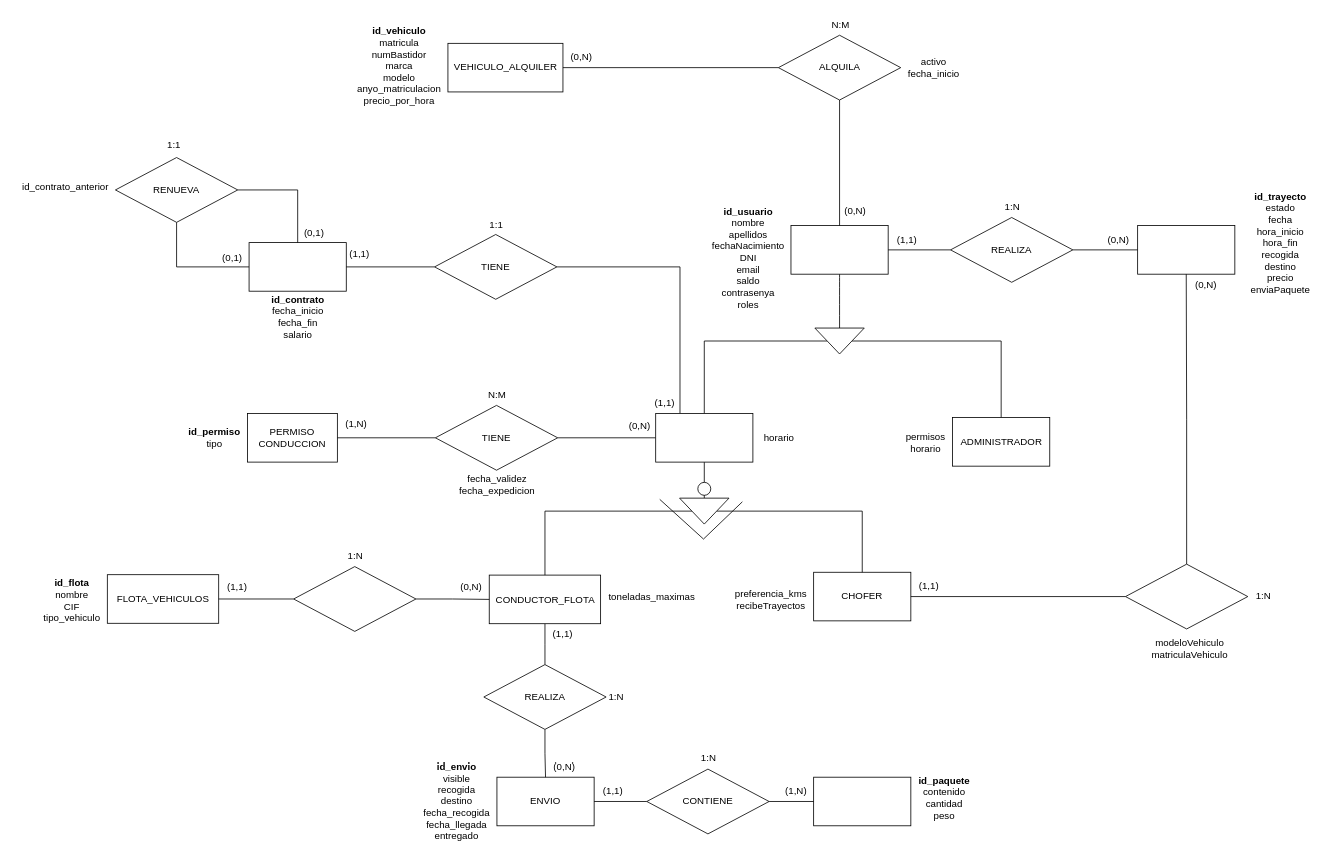
This 1330x861 diagram has some shape labels left out. The shapes that lost their labels are listed below. From the top down, each one's centre as x and y in pixels, then its label:
the point at 297,266: CONTRATO
the point at 839,249: USUARIO
the point at 1186,249: TRAYECTO
the point at 704,437: CONDUCTOR
the point at 354,598: ESTA EN
the point at 1186,596: CONDUCE
the point at 862,801: PAQUETE
